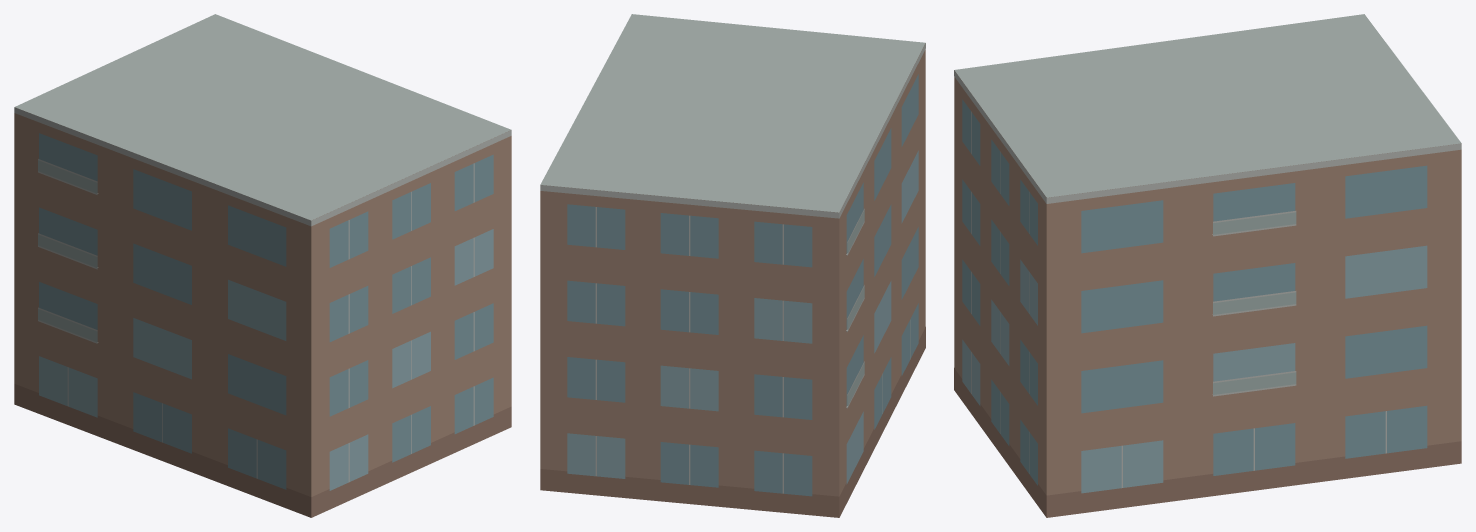
The model's file is survey-upis-32593163.glb.
3 renders of one model, left to right at view 1: azimuth 30°, elevation 25°; view 2: azimuth 150°, elevation 25°; view 3: azimuth 270°, elevation 25°, orthographic. The views are drawn at different scales.
Visible parts, largest first — view 1: survey-upis-32593163.tmp; view 2: survey-upis-32593163.tmp; view 3: survey-upis-32593163.tmp.
Boxes of the visible parts, x1,y1,x2,y2 form: survey-upis-32593163.tmp: [14, 14, 511, 517]; survey-upis-32593163.tmp: [540, 14, 925, 517]; survey-upis-32593163.tmp: [954, 14, 1461, 517].
Bounding box in the file's own units: 15.26 × 12.39 × 17.81.
